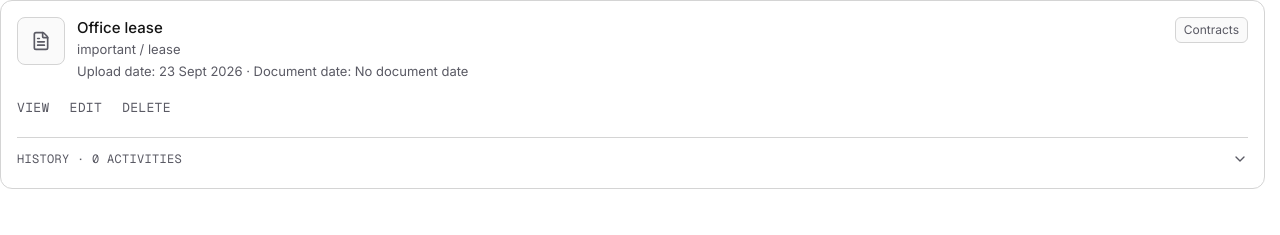
Test: History replaces the AI trace in the card's expandable panel › an empty history says so instead of drawing an empty box
The width and height of the screenshot is (1280, 235).
Step 1. Click the button "History · 0 activities" → x=100, y=159, box [17,146,1248,172]
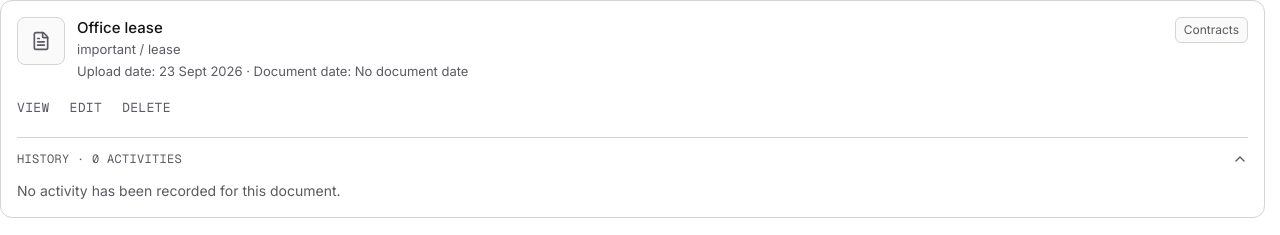
Expected: the text with test id "history-panel" reads "No activity has been recorded for this document.", [17,182,341,199]
